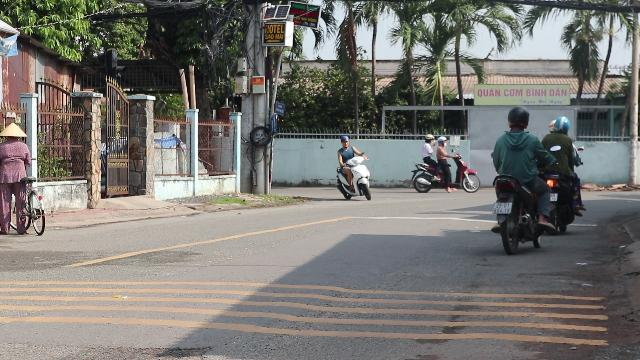helmet: (506, 106, 530, 130), (550, 115, 570, 133)
licenseplate: (493, 202, 512, 213)
motorcyclist: (487, 106, 549, 252), (540, 115, 586, 233)
